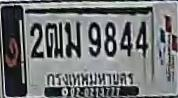2: (29, 22, 43, 57)
4: (135, 20, 147, 56), (120, 21, 132, 56)
8: (103, 21, 116, 56)
9: (88, 21, 100, 56)
A18: (44, 22, 63, 58)
A33: (64, 21, 80, 57)
BKK: (44, 69, 136, 88)
